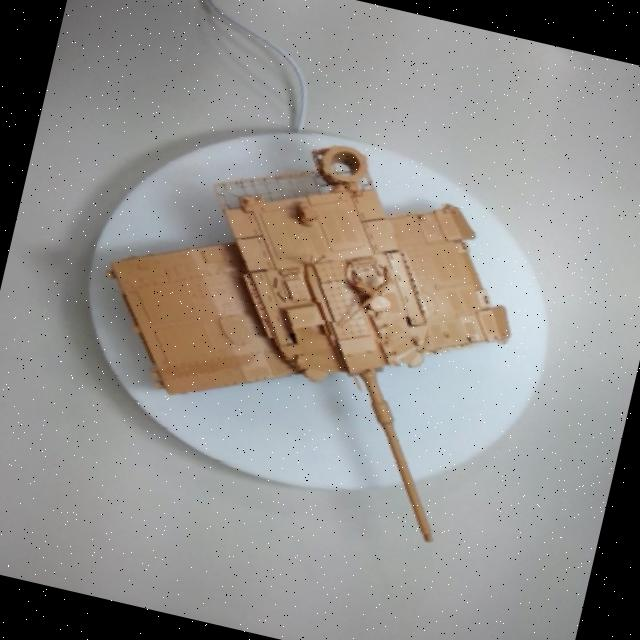korea tank: (41, 83, 572, 578)
